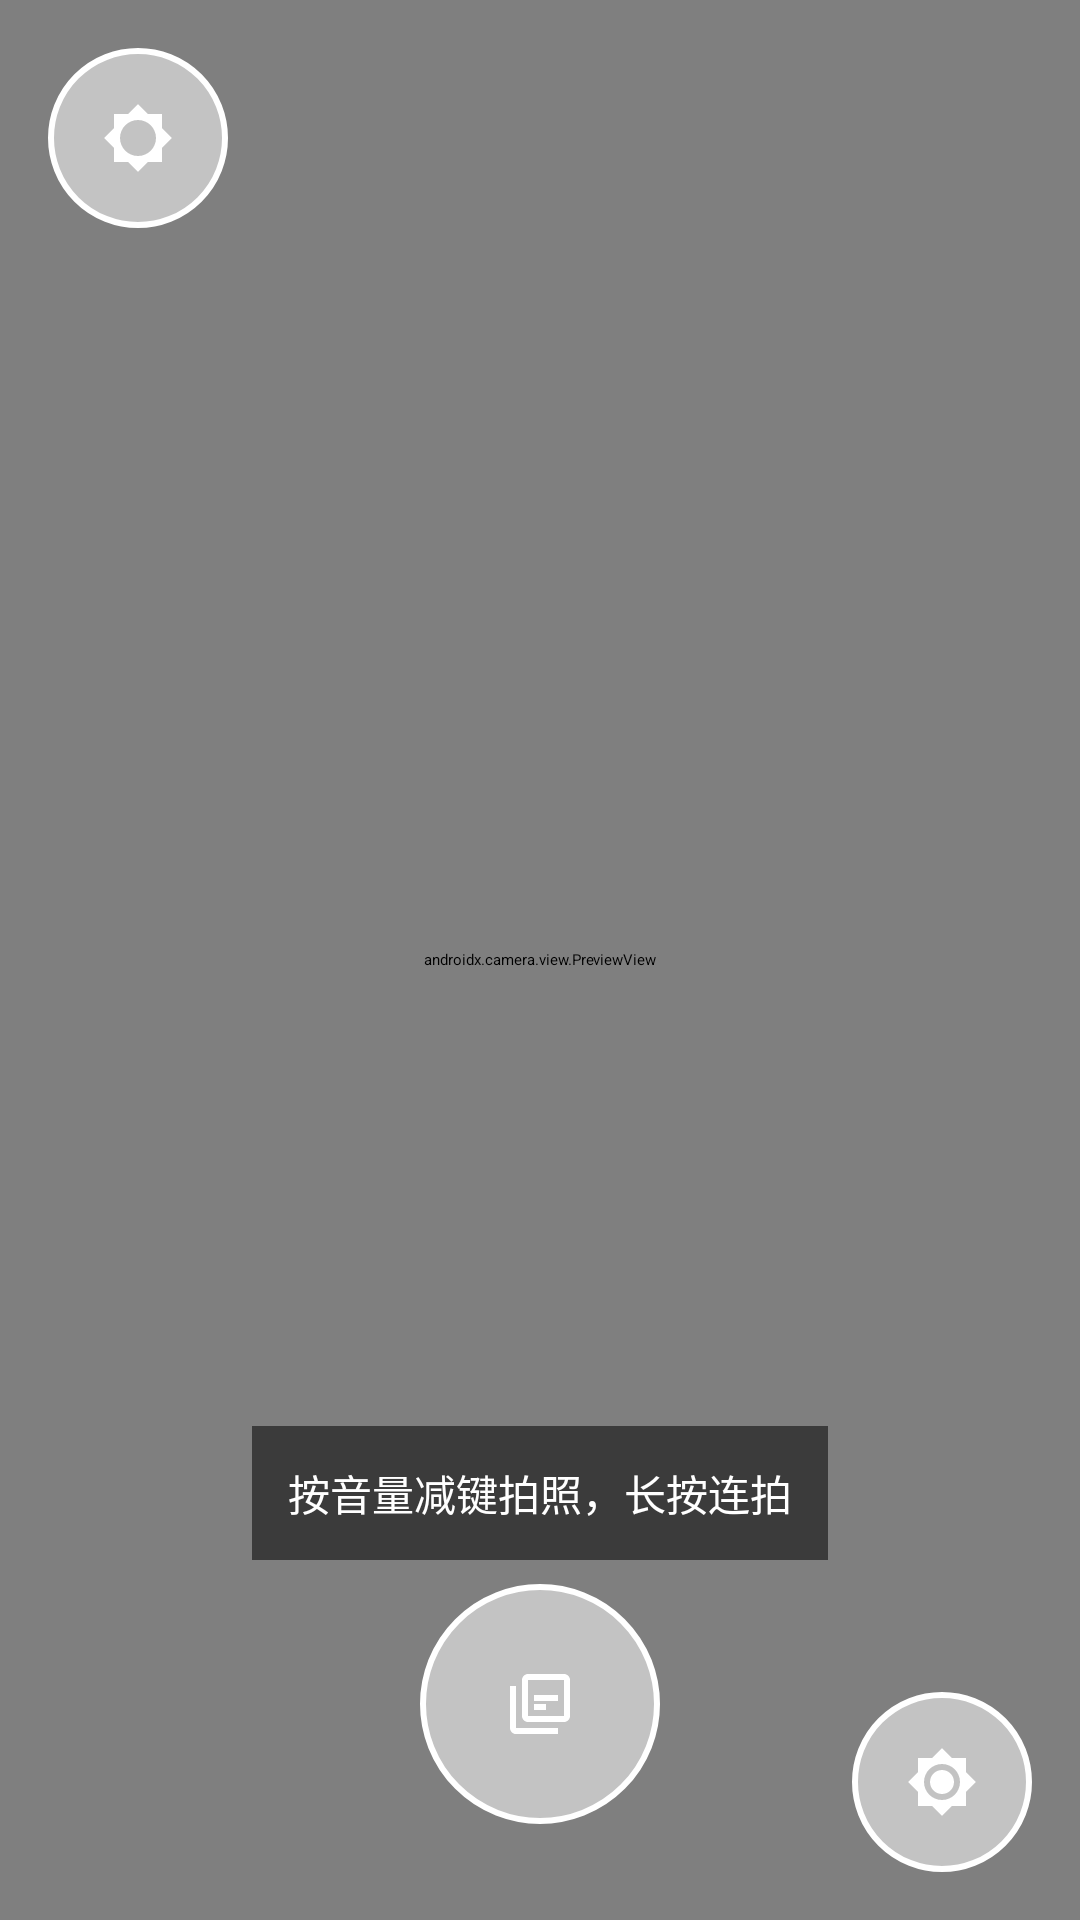

Where to tap for icons on this 1080px×1920px app screen, as (x=x, y=y):
新闻页面: (x=540, y=1704)
